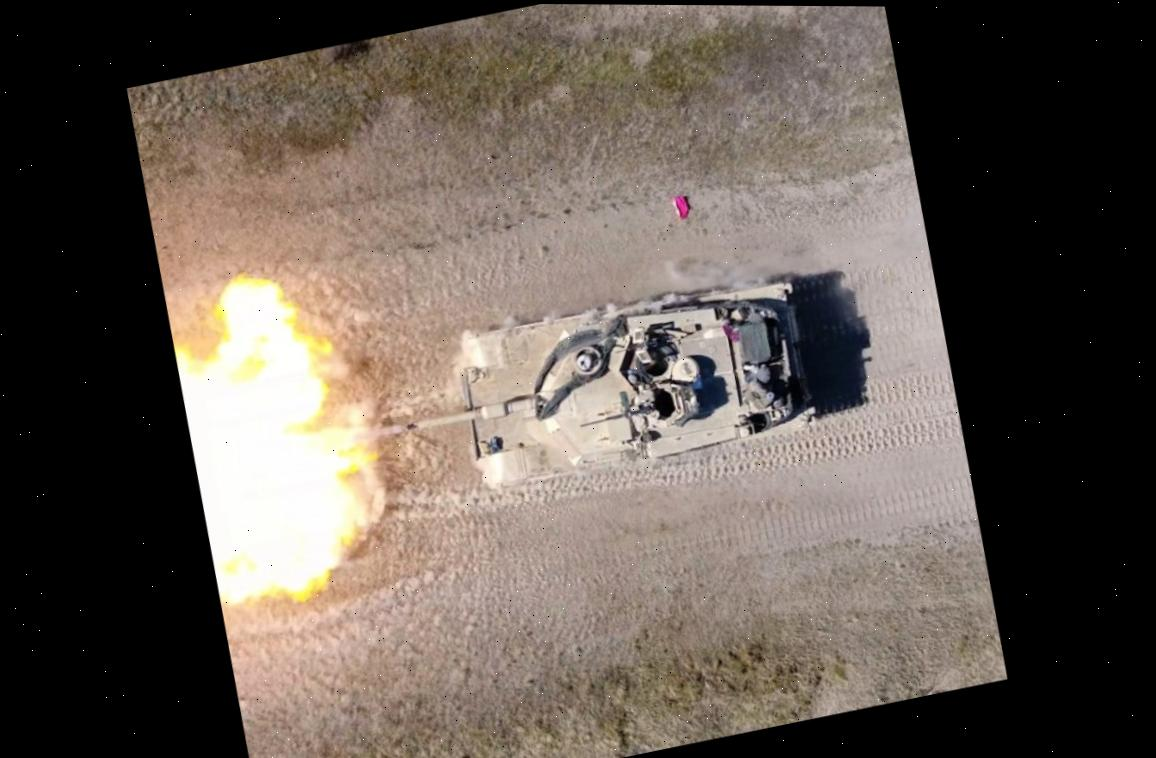tank: (332, 261, 830, 525)
